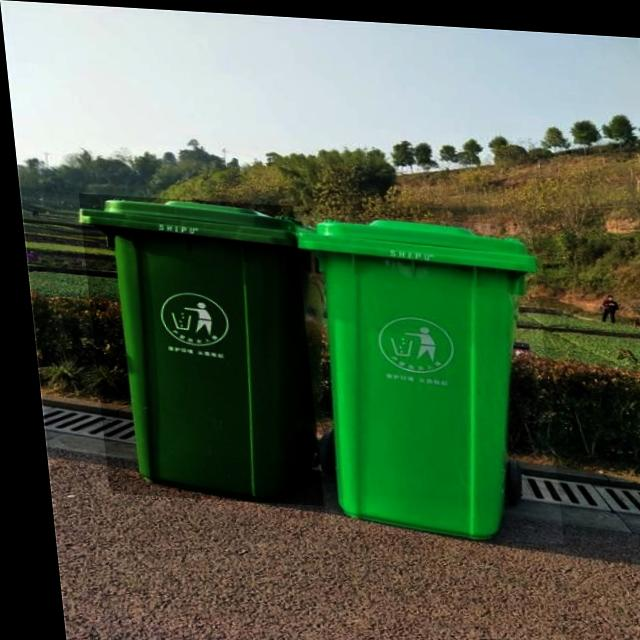garbage_bin: (290, 209, 553, 538), (75, 193, 313, 503)
